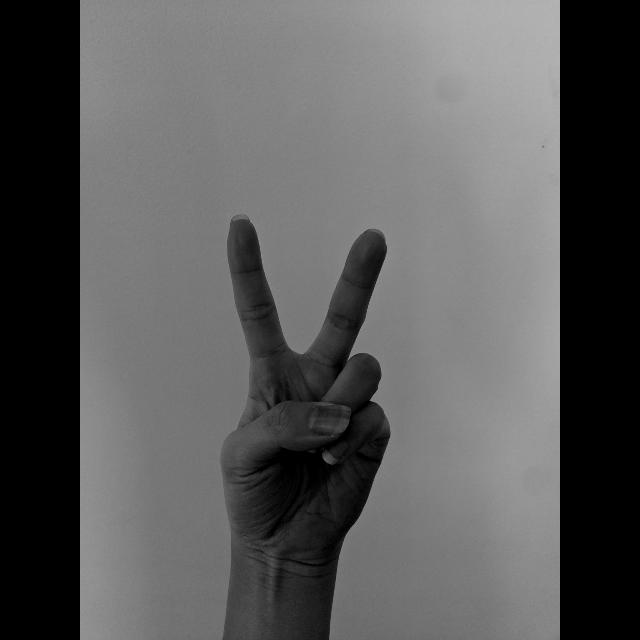V: (215, 210, 395, 574)
